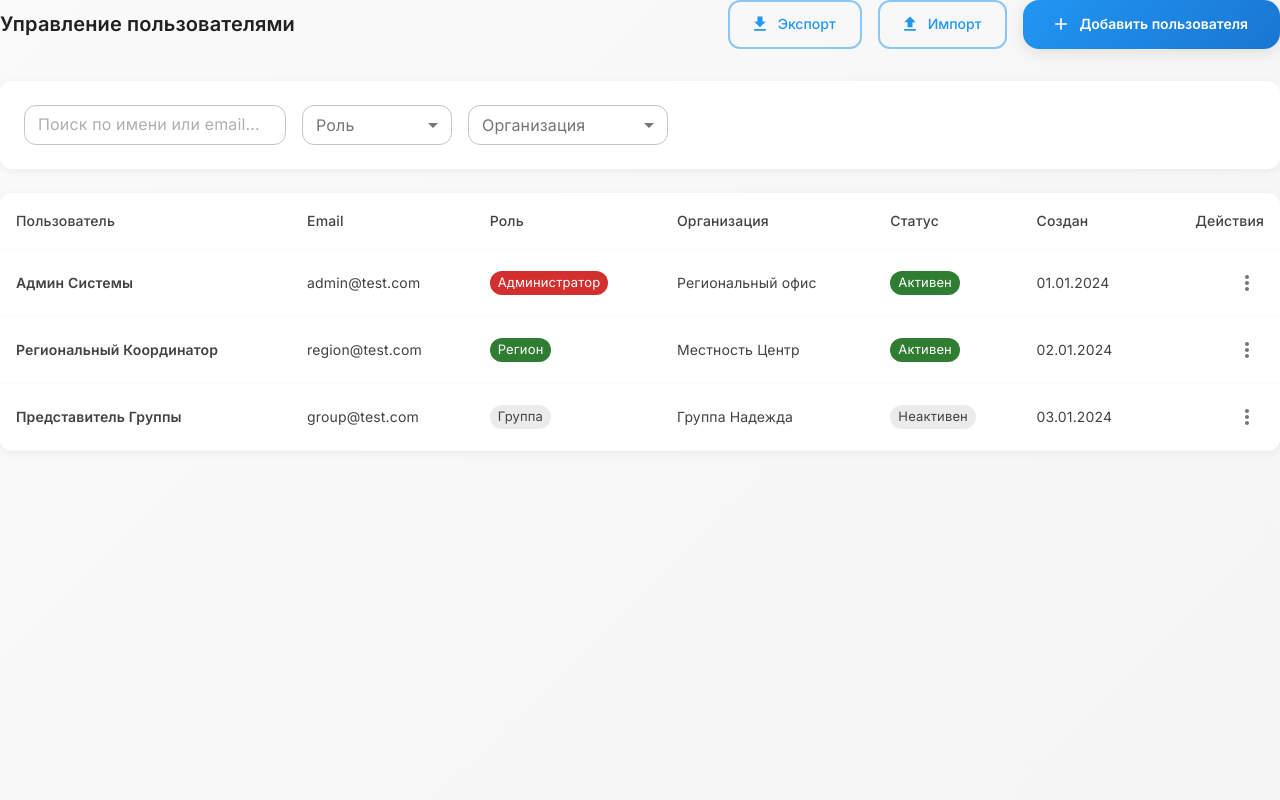
Test: UserManagement › opens edit form when edit menu item is clicked
Click the button without text in the row of "Системы" at (1247, 282), box [1230,266,1264,300]
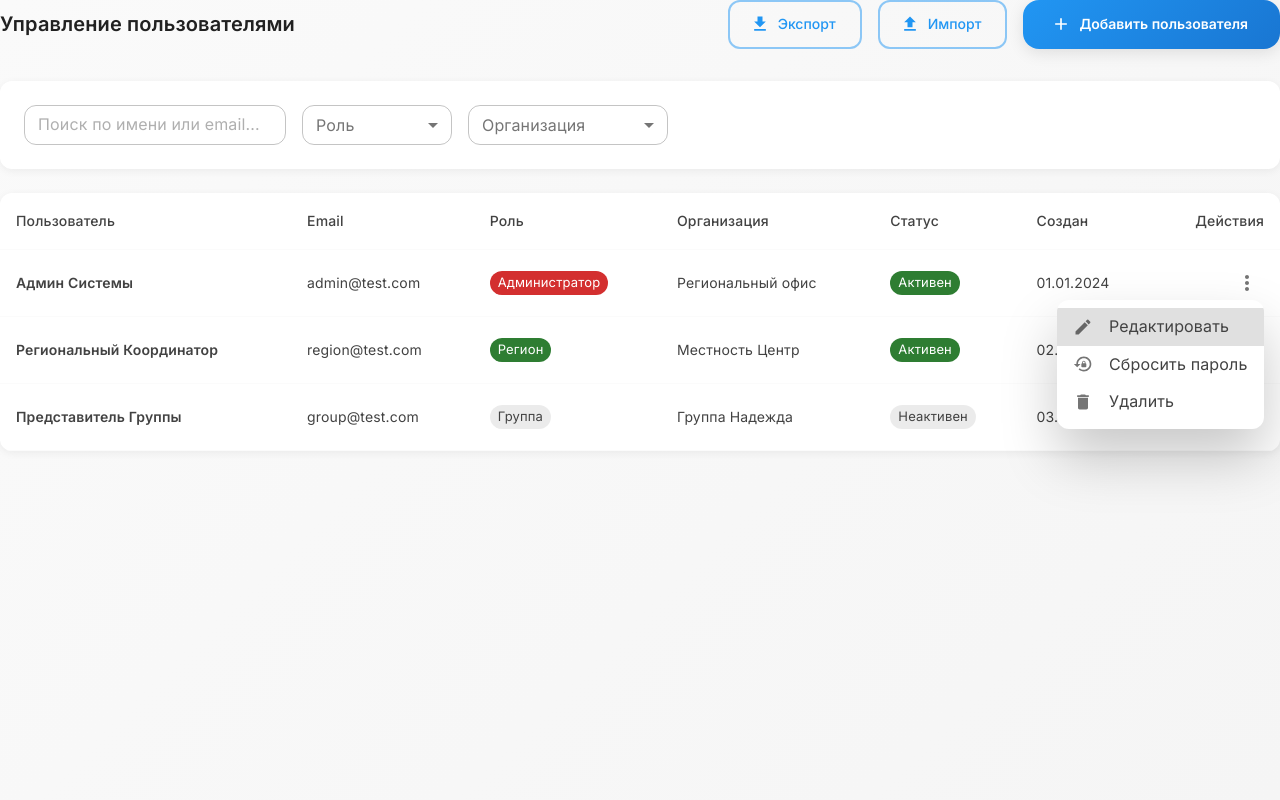
Click the menu item "Редактировать" at (1160, 327), box [1057,308,1264,346]
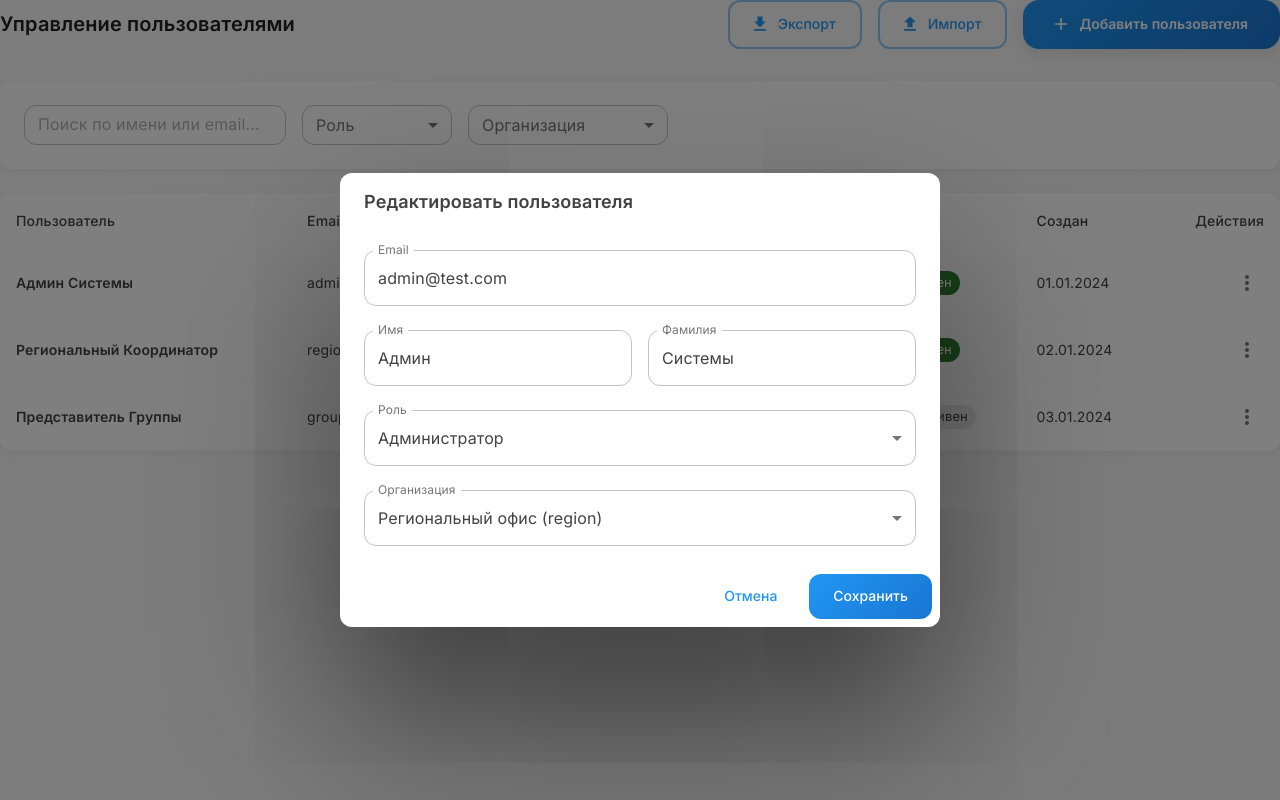
Expected: the heading "Редактировать пользователя" is shown, [364,191,633,212]
Expected: the field showing "admin@test.com" is shown, [364,250,916,306]
Expected: the field showing "Админ" is shown, [364,330,632,386]
